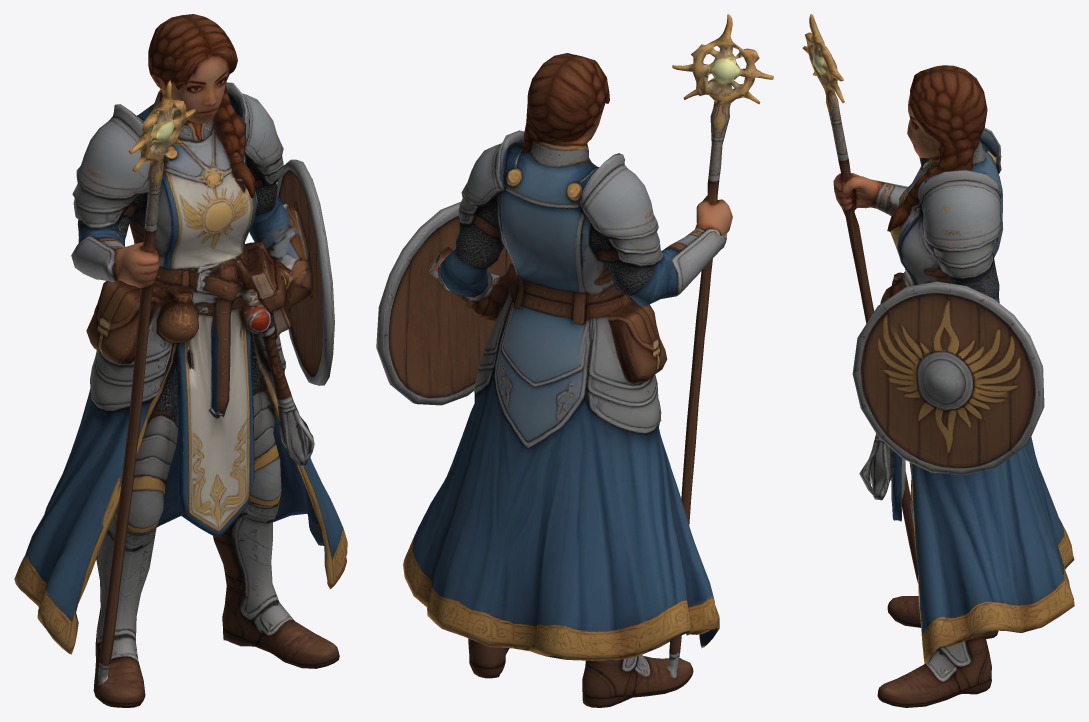
File: Cleriga.glb
3 renders of one model, left to right at view 1: azimuth 30°, elevation 25°; view 2: azimuth 150°, elevation 25°; view 3: azimuth 270°, elevation 25°, orthographic. The views are drawn at different scales.
Parts seen in each view (by area): view 1: tripo_node_5663c51a-ab58-4c47-bef1-161265df0d2b; view 2: tripo_node_5663c51a-ab58-4c47-bef1-161265df0d2b; view 3: tripo_node_5663c51a-ab58-4c47-bef1-161265df0d2b.
Part boxes in pixels (box(x1,y1,x2,y2)): tripo_node_5663c51a-ab58-4c47-bef1-161265df0d2b: box(14, 14, 347, 707); tripo_node_5663c51a-ab58-4c47-bef1-161265df0d2b: box(376, 14, 773, 707); tripo_node_5663c51a-ab58-4c47-bef1-161265df0d2b: box(802, 14, 1074, 707).
Size of the model in its own units: 0.4776 by 0.9955 by 0.408.
1 material, 1 textured.
